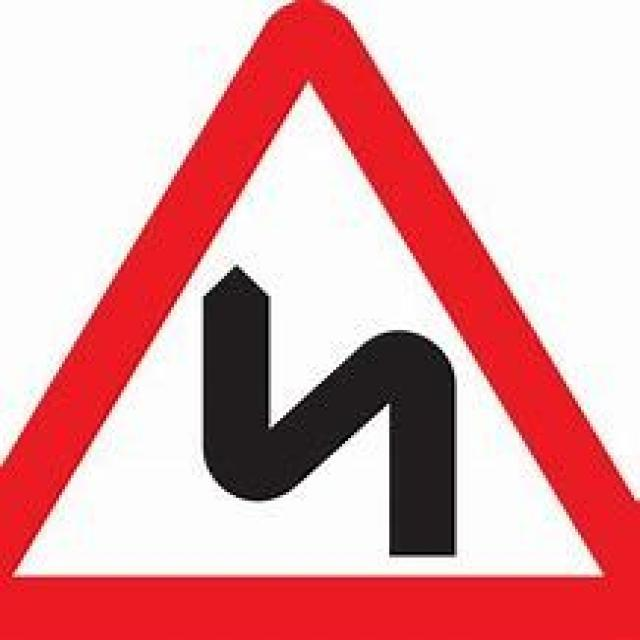left reverse bend: (22, 16, 621, 623)
